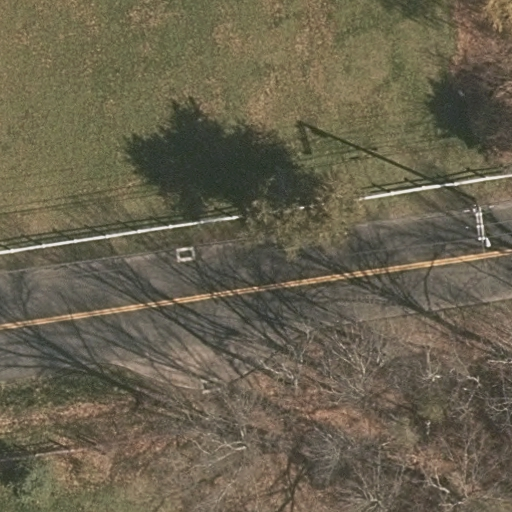DT: (470, 202, 487, 240)
